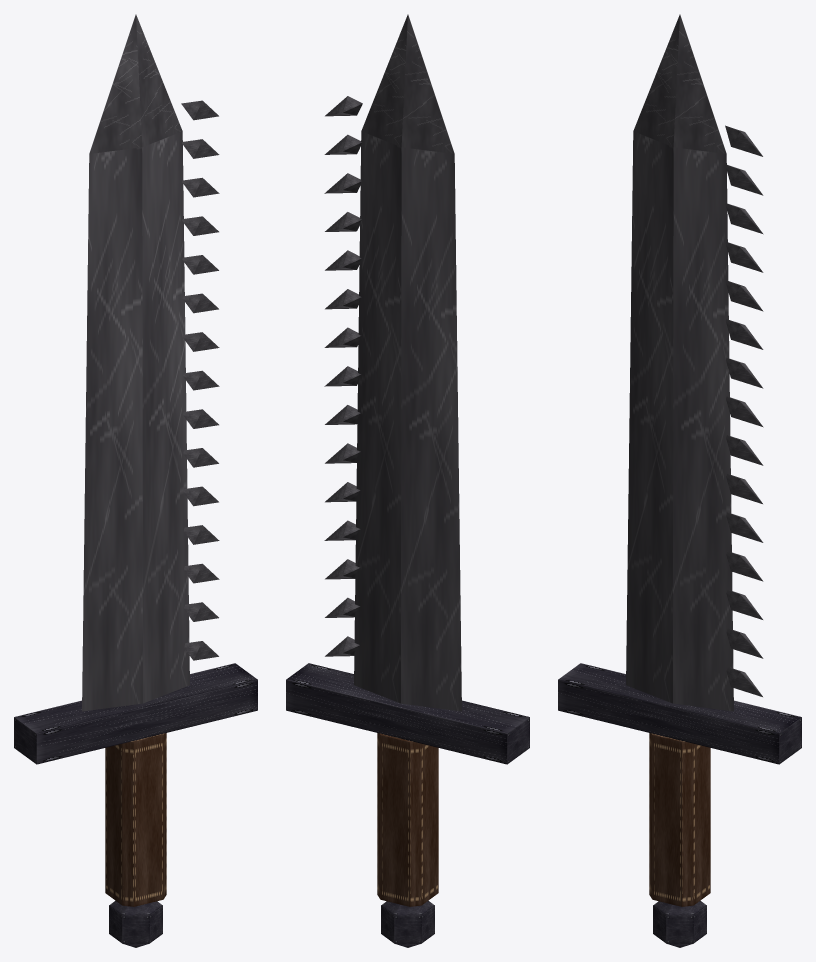
Rendered from SerratedSword.fbx.
3 views of the same model, side by side, from view 1: azimuth 30°, elevation 25°; view 2: azimuth 150°, elevation 25°; view 3: azimuth 330°, elevation 25° (orthographic).
Parts seen in each view (by area): view 1: Blade, Guard, Handle, Pommel; view 2: Blade, Guard, Handle, Pommel; view 3: Blade, Guard, Handle, Pommel.
Boxes of the visible parts, bbox=[...] form: Blade: bbox=[82, 14, 219, 711]; Guard: bbox=[14, 663, 257, 764]; Handle: bbox=[105, 733, 166, 906]; Pommel: bbox=[109, 900, 162, 947]; Blade: bbox=[324, 14, 461, 711]; Guard: bbox=[286, 663, 529, 764]; Handle: bbox=[377, 733, 438, 906]; Pommel: bbox=[381, 900, 434, 947]; Blade: bbox=[626, 14, 763, 711]; Guard: bbox=[558, 663, 801, 764]; Handle: bbox=[649, 733, 710, 906]; Pommel: bbox=[653, 900, 706, 947].
Bounding box in the file's own units: 90 × 363 × 19.05.
Materials: 1 (1 with a texture image).
